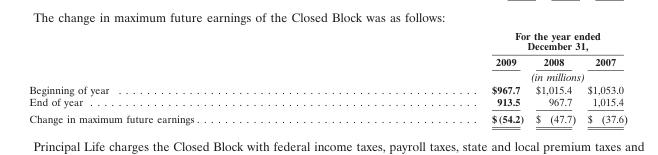table: (28, 29, 626, 124)
table column: (28, 29, 344, 124), (344, 29, 529, 124), (529, 29, 580, 124), (580, 29, 626, 124)
table column header: (28, 29, 626, 82)
table row: (28, 29, 626, 53), (28, 53, 626, 68), (28, 109, 626, 124), (28, 68, 626, 82), (28, 95, 626, 109), (28, 82, 626, 95)
table spanning cell: (344, 29, 626, 53), (344, 68, 626, 82)
